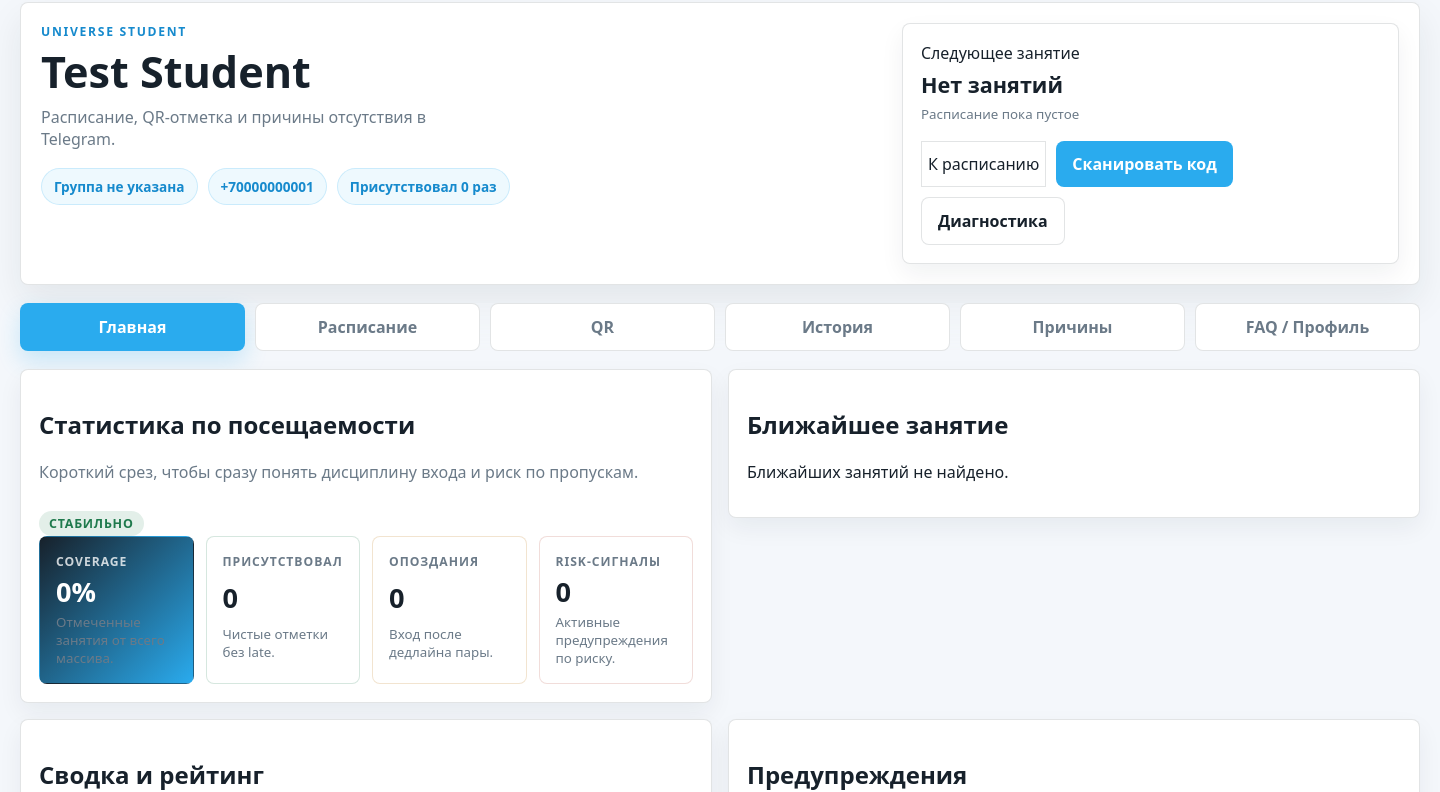
Test case: does not submit absence reason form when there are no lessons available
Expected: the heading "Test Student" is shown, [41,42,311,101]
Click the button "Причины": (1072, 327) [960,303,1185,351]
(page scrolled)
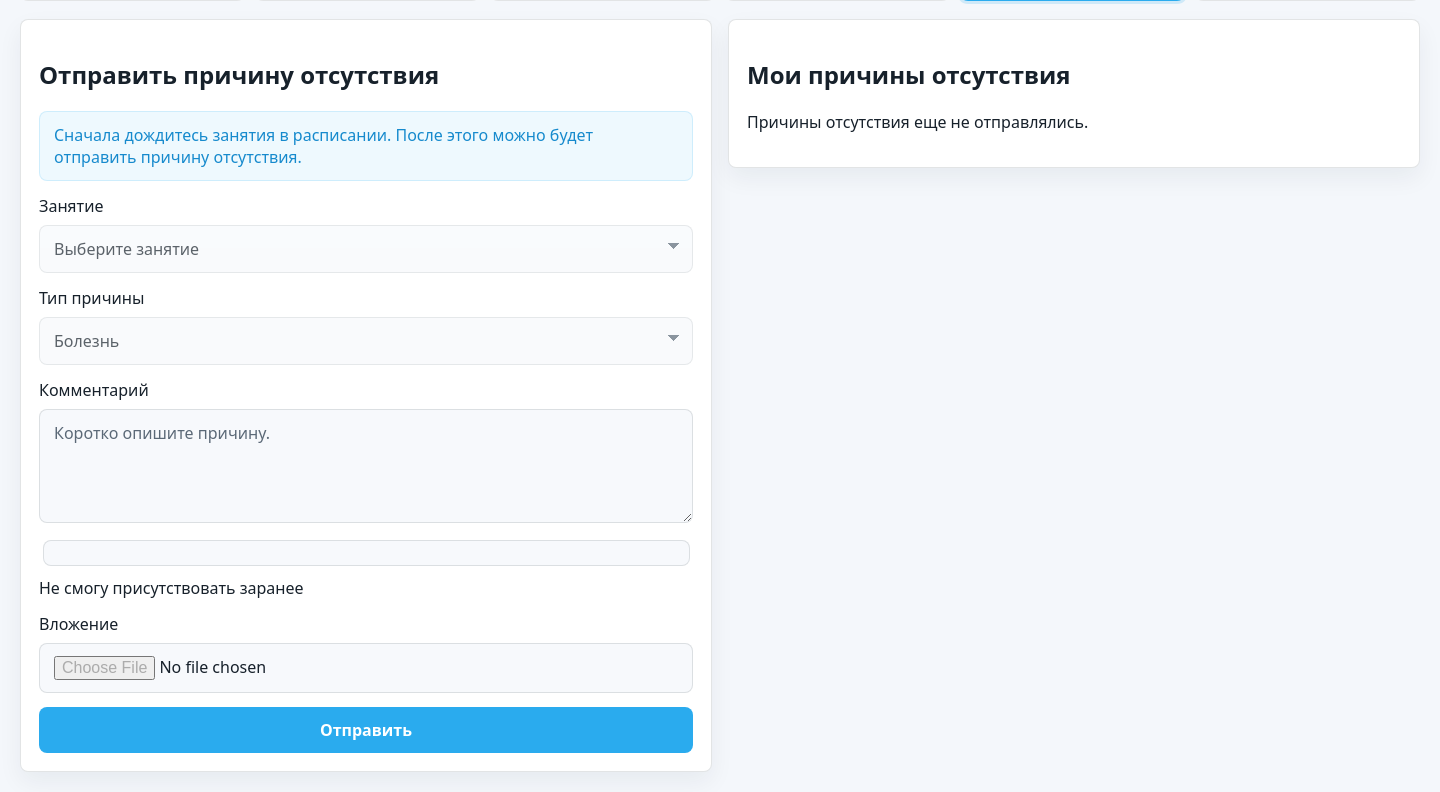
Expected: the text "Сначала дождитесь занятия в расписании" is shown, [54,124,593,168]
Expected: the button "Отправить" is disabled, [39,707,693,753]
